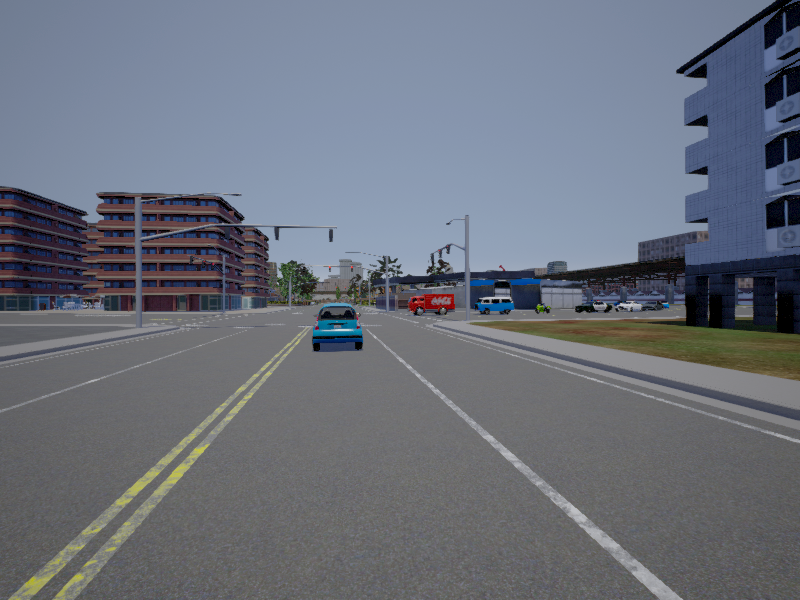Benign: (312, 303, 362, 352), (409, 295, 455, 316), (475, 297, 517, 316), (574, 301, 613, 314), (615, 301, 643, 313)
